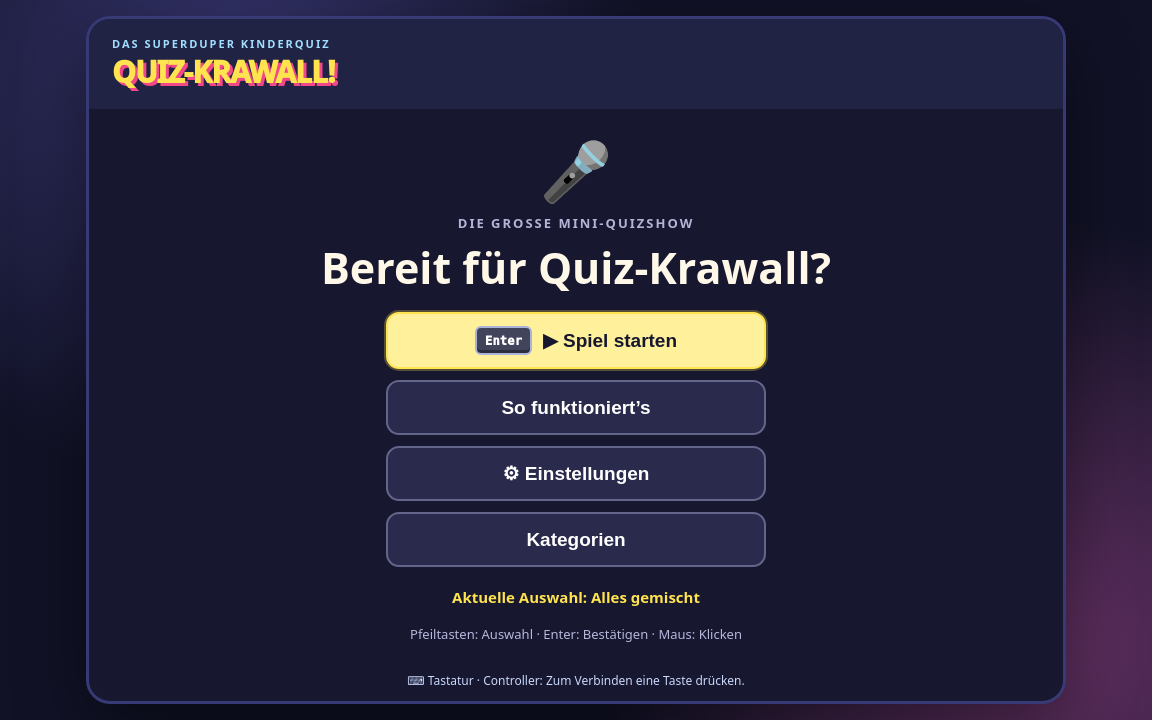
automatic category-intro transitions › keeps an extra 1.5 seconds of title time when voice is disabled
Later steps or results of the test are not shown.
Click the button "⚙ Einstellungen" at (576, 474), box [386,446,766,501]
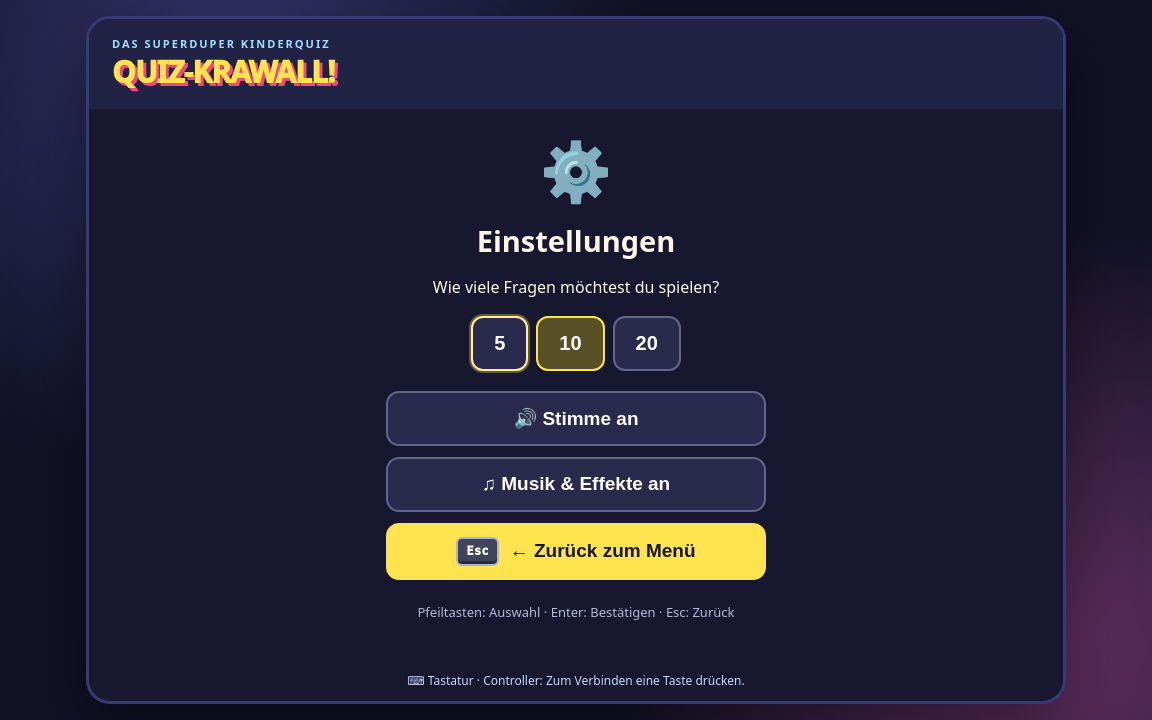
Click the button "🔊 Stimme an" at (576, 418), box [386,391,766,446]
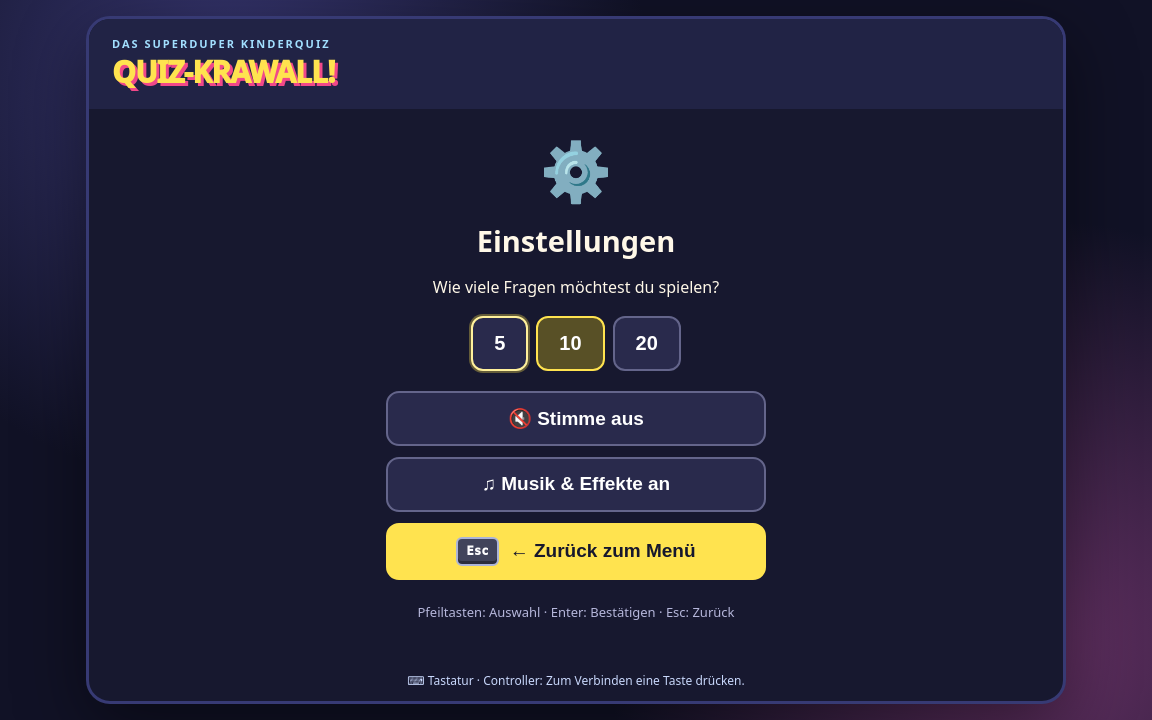
Click the button "Esc ← Zurück zum Menü" at (576, 551), box [386,523,766,580]
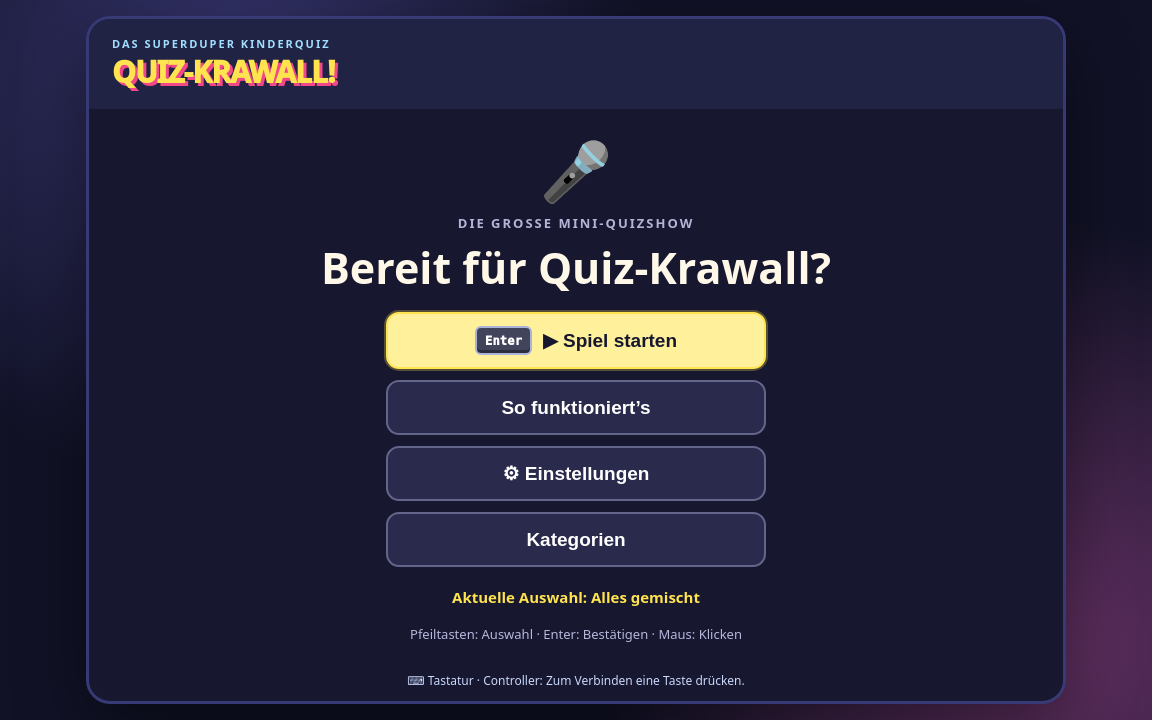
Click the button "Enter ▶ Spiel starten" at (576, 341), box [386,312,766,369]
Wait 1500 ms
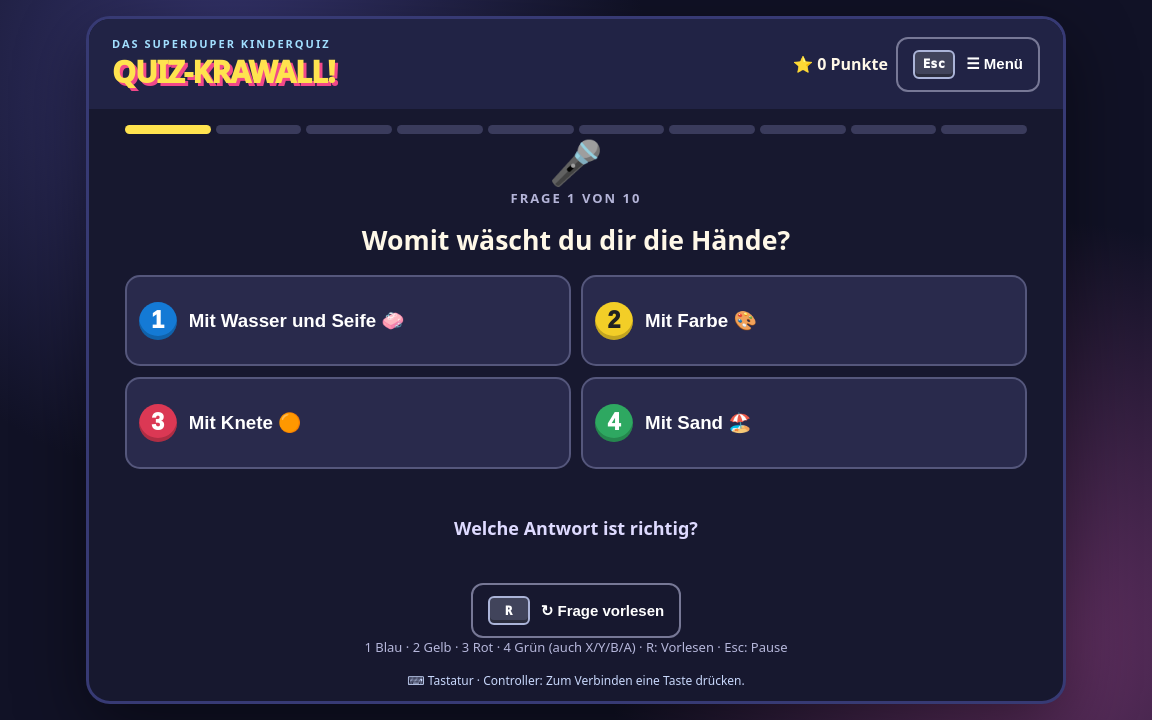
Expected: the text "Frage 1 von 10" is shown, [511,190,641,208]
